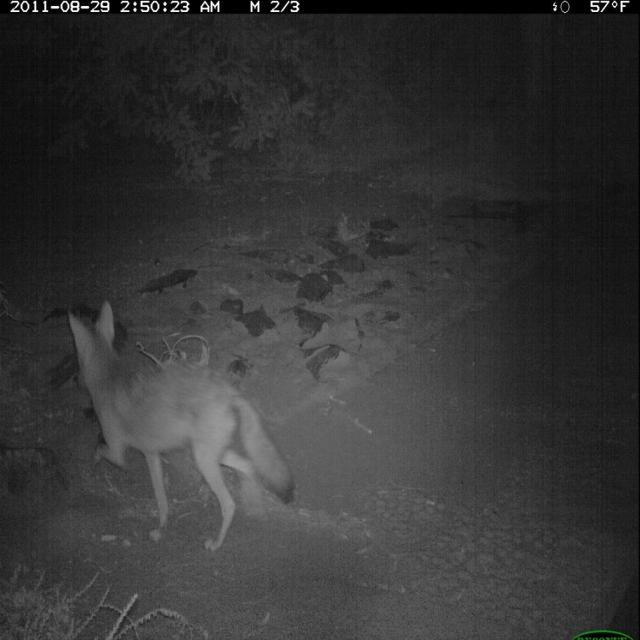coyote: (59, 294, 301, 561)
